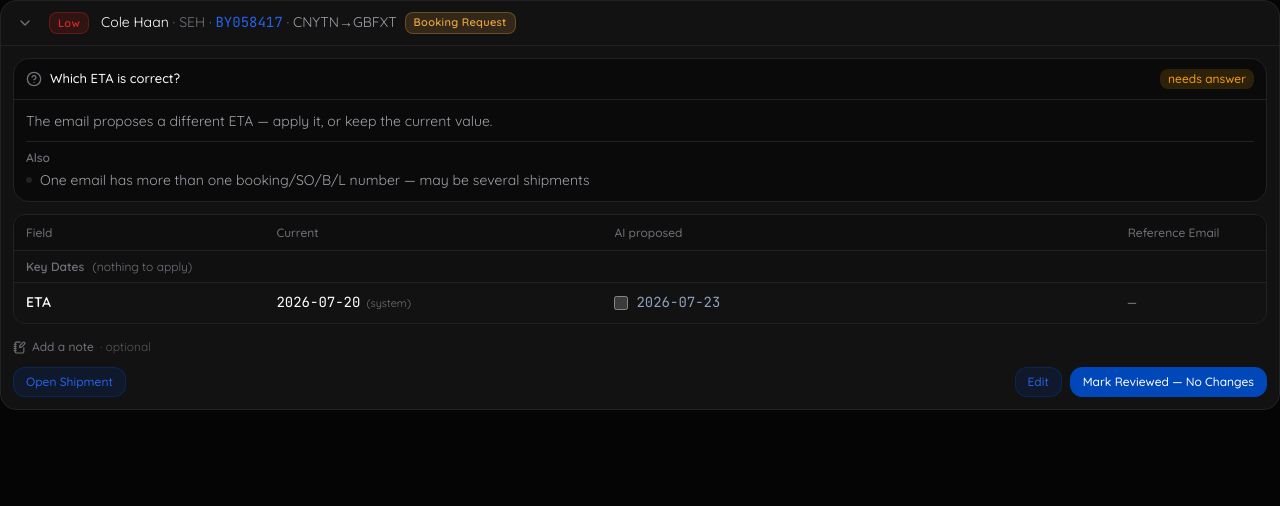
Test case: conflict table — read-only by default, Edit to change values › the take-tick is a READ-mode gesture — Edit replaces the cell with the input
Expected: the checkbox with test id "conflict-take" is shown, [614,296,628,310]
Click the button "Edit" at [1038, 382], box [1015,367,1062,397]
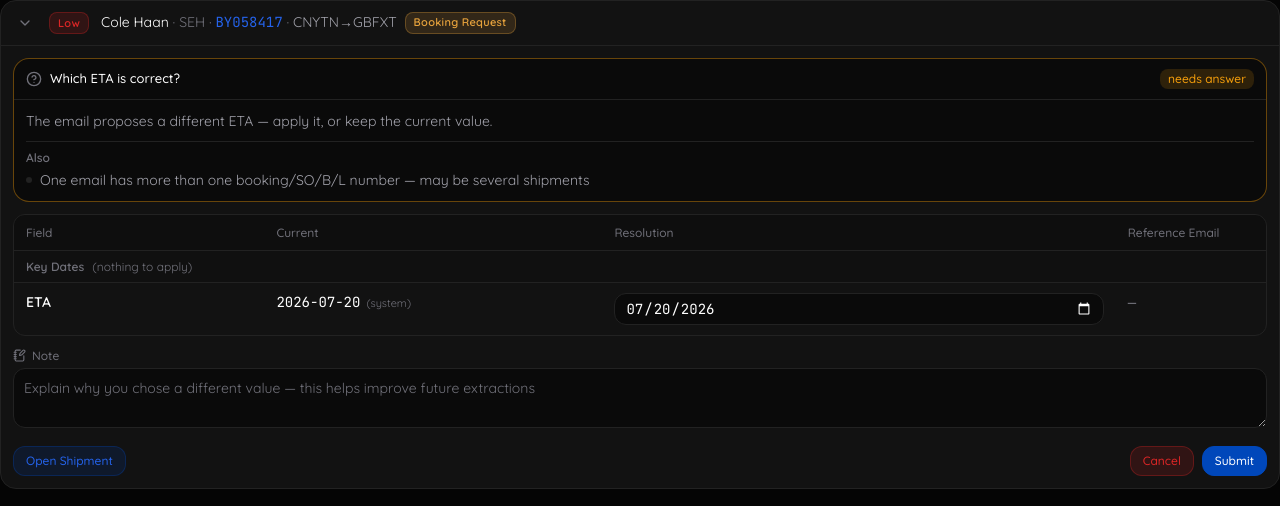
Expected: the checkbox with test id "conflict-take" is gone
Expected: the date field with test id "datetime-date" is shown, [614,292,1104,324]
